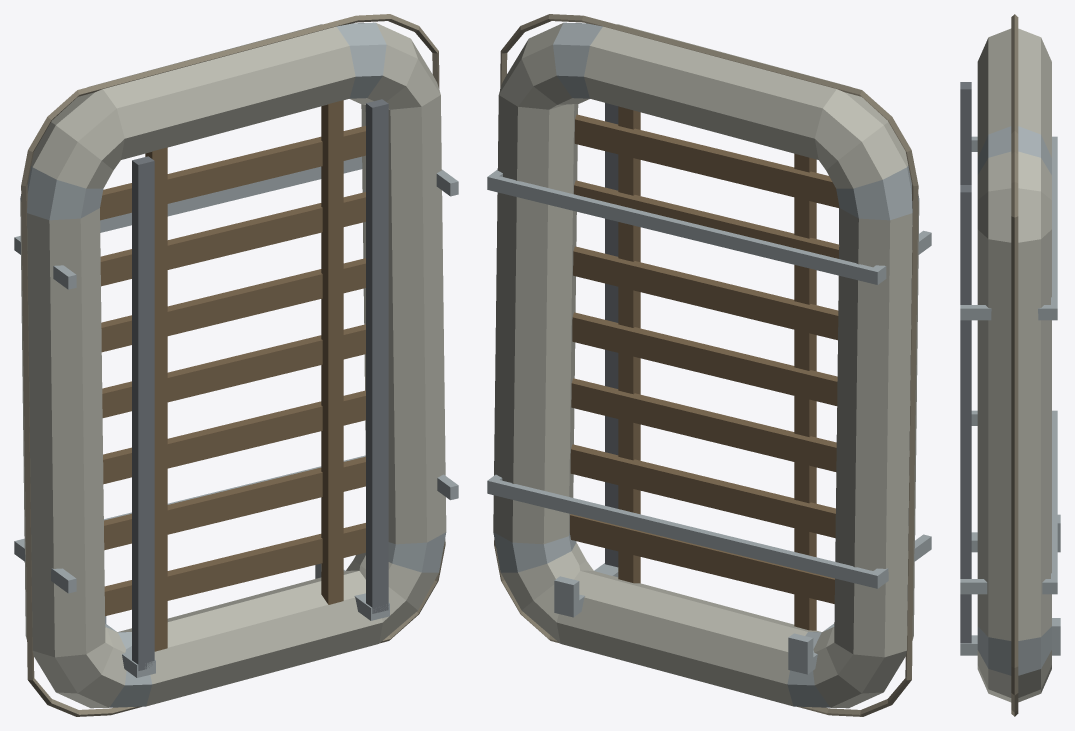
The picture shows the model from 3 angles, left to right: view 1: azimuth 30°, elevation 25°; view 2: azimuth 150°, elevation 25°; view 3: azimuth 270°, elevation 25°; orthographic projection. The views are drawn at different scales.
Parts seen in each view (by area): view 1: component.root.mesh; view 2: component.root.mesh; view 3: component.root.mesh.
Part boxes in pixels (bbox=[...]): component.root.mesh: bbox=[14, 14, 458, 716]; component.root.mesh: bbox=[487, 14, 931, 716]; component.root.mesh: bbox=[960, 14, 1060, 716].
Size of the model in its own units: 1.54 by 2.22 by 0.35.
